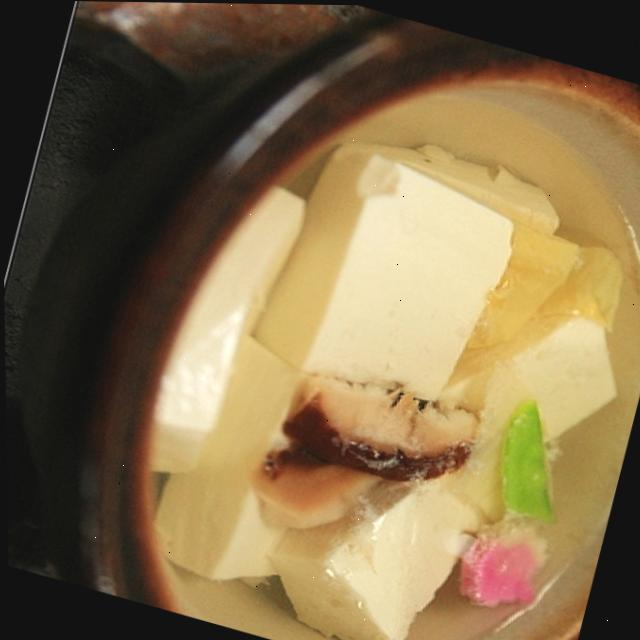豆腐料理: (59, 18, 640, 640)
